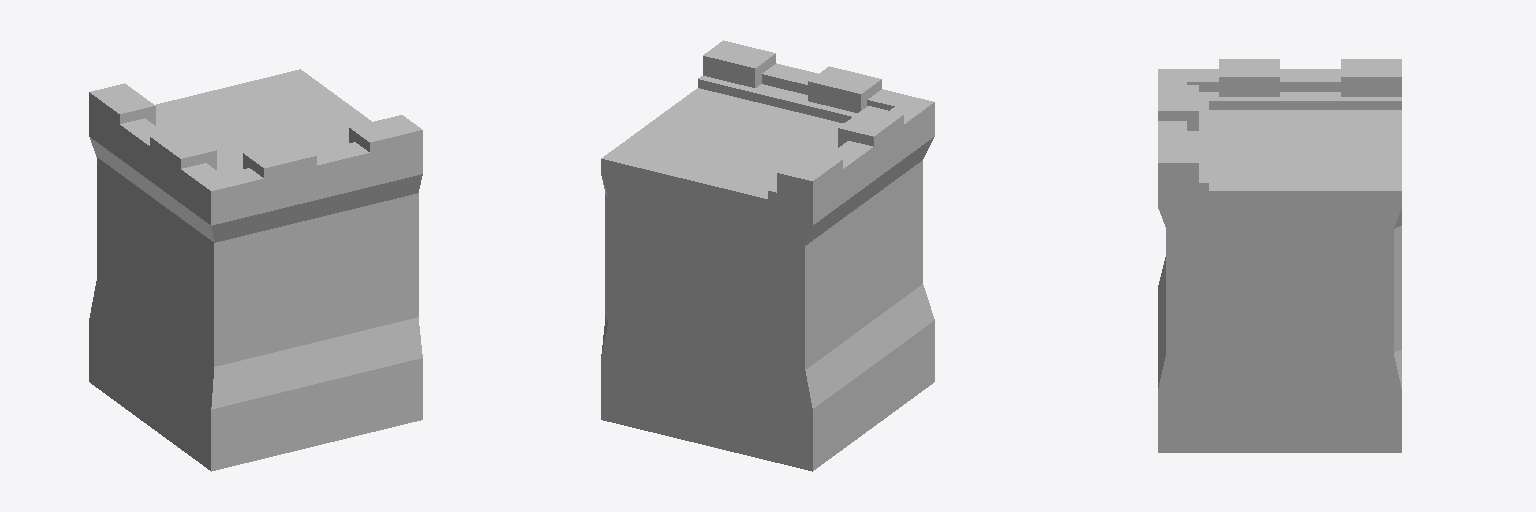
Rendered from wallCornerHalf.obj.
3 views of the same model, side by side, from view 1: azimuth 30°, elevation 25°; view 2: azimuth 150°, elevation 25°; view 3: azimuth 270°, elevation 25° (orthographic).
Parts seen in each view (by area): view 1: wallCornerHalf; view 2: wallCornerHalf; view 3: wallCornerHalf.
Part boxes in pixels (x1,y1,x2,y2): wallCornerHalf: (89,69,422,471); wallCornerHalf: (601,40,934,471); wallCornerHalf: (1158,59,1401,452).
Bounding box in the file's own units: 10 × 13.1 × 10.